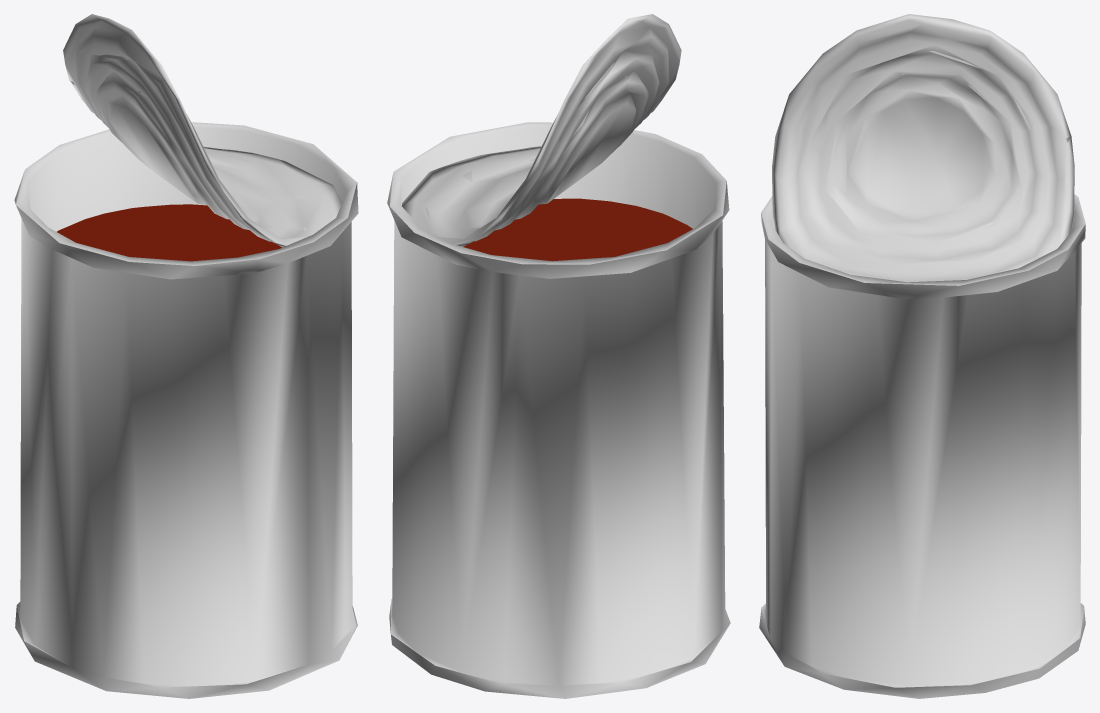
Rendered from tomatburck25.fbx.
The picture shows the model from 3 angles, left to right: view 1: azimuth 30°, elevation 25°; view 2: azimuth 150°, elevation 25°; view 3: azimuth 270°, elevation 25°; orthographic projection. The views are drawn at different scales.
Parts seen in each view (by area): view 1: Burk.002, Lid.002, sos.002; view 2: Burk.002, Lid.002, sos.002; view 3: Burk.002, Lid.002.
Part boxes in pixels (x1=…): Burk.002: x1=14, y1=122, x2=358, y2=698; Lid.002: x1=63, y1=14, x2=342, y2=247; sos.002: x1=57, y1=204, x2=282, y2=261; Burk.002: x1=387, y1=122, x2=730, y2=698; Lid.002: x1=402, y1=14, x2=681, y2=246; sos.002: x1=463, y1=198, x2=692, y2=261; Burk.002: x1=759, y1=194, x2=1085, y2=698; Lid.002: x1=772, y1=14, x2=1074, y2=282.
Bounding box in the file's own units: 11.77 × 23.21 × 11.7.
